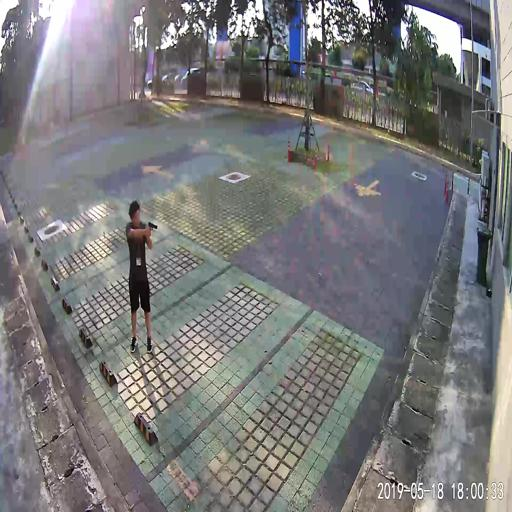pistol: (147, 220, 157, 235)
